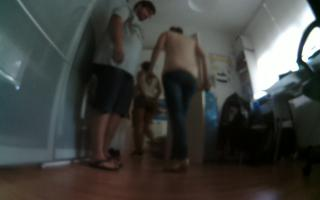person: (146, 21, 221, 178), (89, 1, 156, 172), (132, 57, 161, 162)
